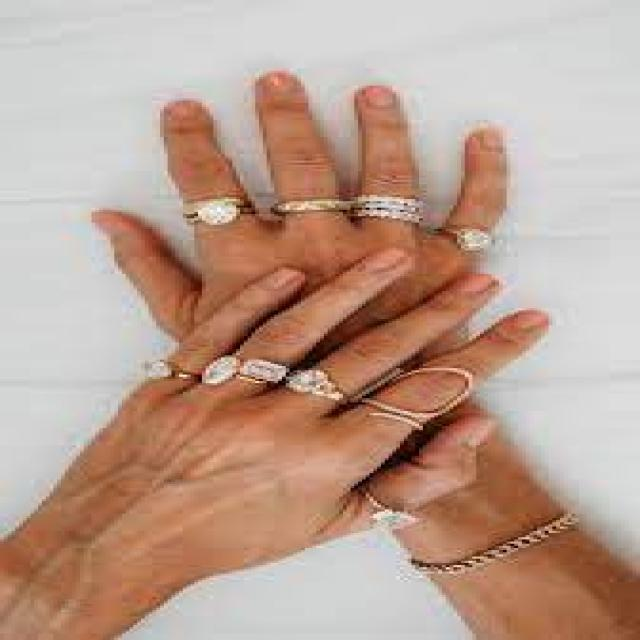Ring: (368, 366, 469, 455), (341, 477, 448, 536), (352, 178, 446, 226), (163, 190, 266, 228), (194, 350, 289, 390), (290, 358, 352, 409), (131, 361, 219, 391), (280, 193, 356, 224), (448, 218, 508, 256)
